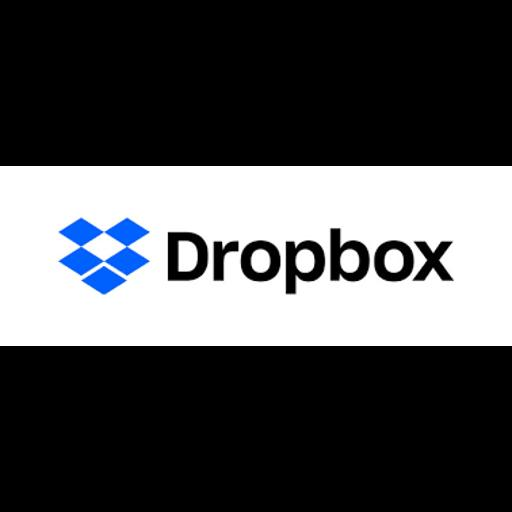Dropbox: (0, 166, 512, 346)
